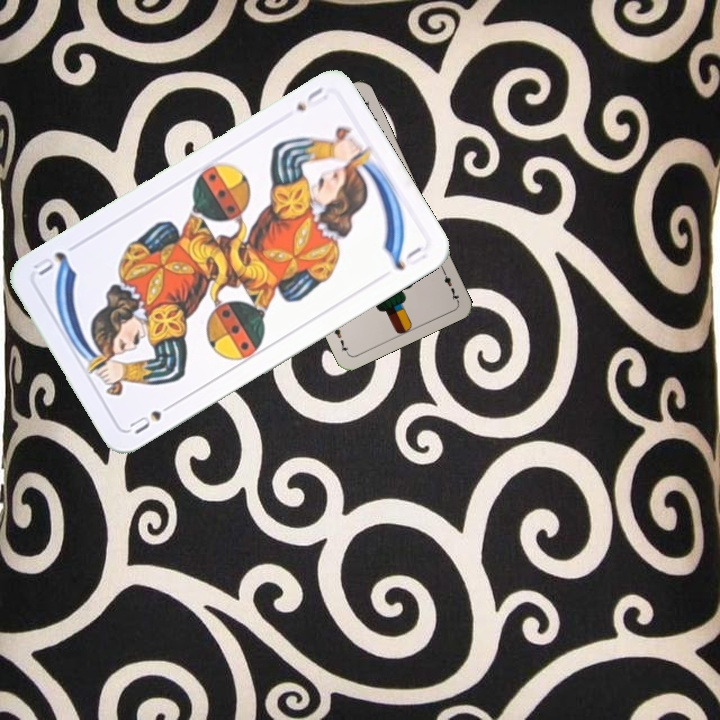E7: (438, 265, 461, 304)
SU: (125, 397, 179, 437), (291, 83, 329, 114)
